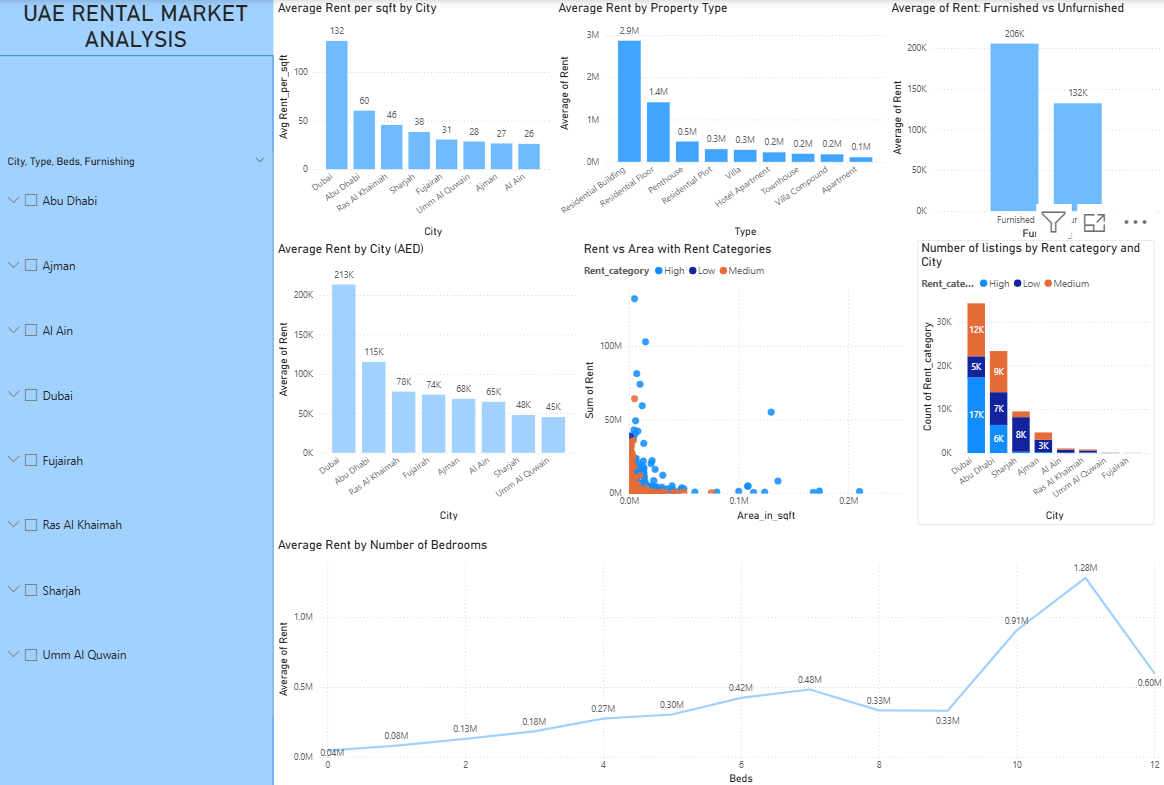

Layout of this report page (visuals, bound fields, positions):
{"tool":"powerbi","page":{"name":"Page 1","canvas":[1280,720],"ordinal":0},"visuals":[{"type":"clusteredColumnChart","title":"Average Rent by City (AED)","fields":{"Category":["dubai_rental_dataset_cleaned.City"],"Y":["Avg(dubai_rental_dataset_cleaned.Rent)"]},"box":[0,39.8,306,210],"z":0},{"type":"clusteredColumnChart","title":"Average Rent per sqft by City","fields":{"Category":["dubai_rental_dataset_cleaned.City"],"Y":["Avg(dubai_rental_dataset_cleaned.Rent_per_sqft)"]},"box":[363.7,41.2,304.7,210],"z":1000},{"type":"clusteredColumnChart","title":"Average Rent by Property Type","fields":{"Category":["dubai_rental_dataset_cleaned.Type"],"Y":["Avg(dubai_rental_dataset_cleaned.Rent)"]},"box":[668.3,41.2,322.5,210],"z":2000},{"type":"lineChart","title":"Average Rent by Number of Bedrooms","fields":{"Category":["dubai_rental_dataset_cleaned.Beds"],"Y":["Avg(dubai_rental_dataset_cleaned.Rent)"]},"box":[49.4,251.1,887.9,183.9],"z":3000},{"type":"clusteredColumnChart","title":"Average of Rent: Furnished vs Unfurnished","fields":{"Category":["dubai_rental_dataset_cleaned.Furnishing"],"Y":["Avg(dubai_rental_dataset_cleaned.Rent)"]},"box":[996.3,41.2,284.1,330.7],"z":4000},{"type":"columnChart","title":"Number of listings by Rent category and City","fields":{"Category":["dubai_rental_dataset_cleaned.City"],"Y":["CountNonNull(dubai_rental_dataset_cleaned.Rent_category)"],"Series":["dubai_rental_dataset_cleaned.Rent_category"]},"box":[956.5,393.9,323.9,326.6],"z":5000},{"type":"scatterChart","title":"Rent vs Area with Rent Categories","fields":{"X":["dubai_rental_dataset_cleaned.Area_in_sqft"],"Y":["Sum(dubai_rental_dataset_cleaned.Rent)"],"Series":["dubai_rental_dataset_cleaned.Rent_category"]},"box":[444.6,435,511.9,285.4],"z":5001},{"type":"slicer","fields":{"Values":["dubai_rental_dataset_cleaned.City","dubai_rental_dataset_cleaned.Type","dubai_rental_dataset_cleaned.Beds","dubai_rental_dataset_cleaned.Furnishing"]},"box":[0,435,444.6,284.1],"z":5002},{"type":"actionButton","box":[0,0,100,40],"z":5003},{"type":"textbox","box":[495.4,0,286.8,34.3],"z":5005}]}

Visuals, with their boxes on the page's 1280x720 design canvas (x1, y1, x2, y2). These are canvas units, not pixel positions in the 1164x785 screenshot, which may show the page scaled, cropped or inside an application window:
"Average Rent by City (AED)" clusteredColumnChart: bbox=(0, 40, 306, 250)
"Average Rent per sqft by City" clusteredColumnChart: bbox=(364, 41, 668, 251)
"Average Rent by Property Type" clusteredColumnChart: bbox=(668, 41, 991, 251)
"Average Rent by Number of Bedrooms" lineChart: bbox=(49, 251, 937, 435)
"Average of Rent: Furnished vs Unfurnished" clusteredColumnChart: bbox=(996, 41, 1280, 372)
"Number of listings by Rent category and City" columnChart: bbox=(956, 394, 1280, 720)
"Rent vs Area with Rent Categories" scatterChart: bbox=(445, 435, 956, 720)
slicer - dubai_rental_dataset_cleaned.City x dubai_rental_dataset_cleaned.Type: bbox=(0, 435, 445, 719)
actionButton: bbox=(0, 0, 100, 40)
textbox: bbox=(495, 0, 782, 34)
